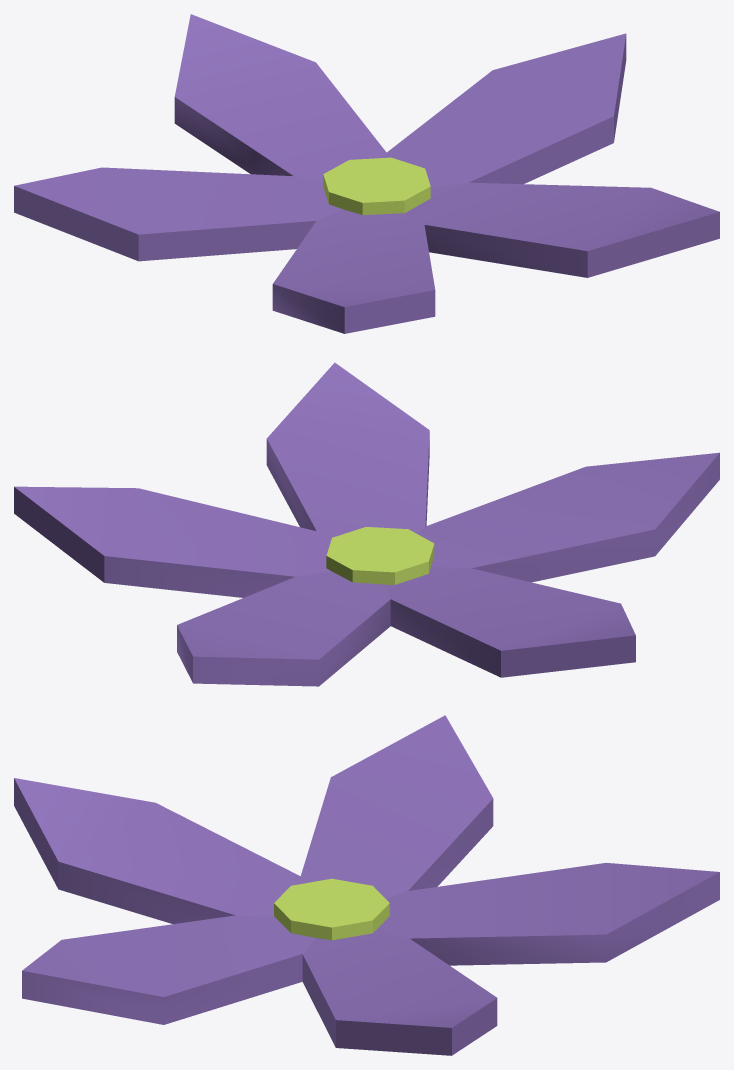
File: Flower_Purple_2.fbx
3 views of the same model, one above another, from view 1: azimuth 30°, elevation 25°; view 2: azimuth 150°, elevation 25°; view 3: azimuth 270°, elevation 25° (orthographic). The views are drawn at different scales.
Visible parts, largest first — view 1: Cube.102, Cylinder.631; view 2: Cube.102, Cylinder.631; view 3: Cube.102, Cylinder.631.
Boxes of the visible parts, <box> form: Cube.102: <box>14,14,719,333</box>; Cylinder.631: <box>323,157,430,214</box>; Cube.102: <box>14,362,719,686</box>; Cylinder.631: <box>326,527,434,584</box>; Cube.102: <box>14,715,719,1055</box>; Cylinder.631: <box>274,878,389,940</box>.
Bounding box in the file's own units: 71.56 × 7.88 × 68.25.
